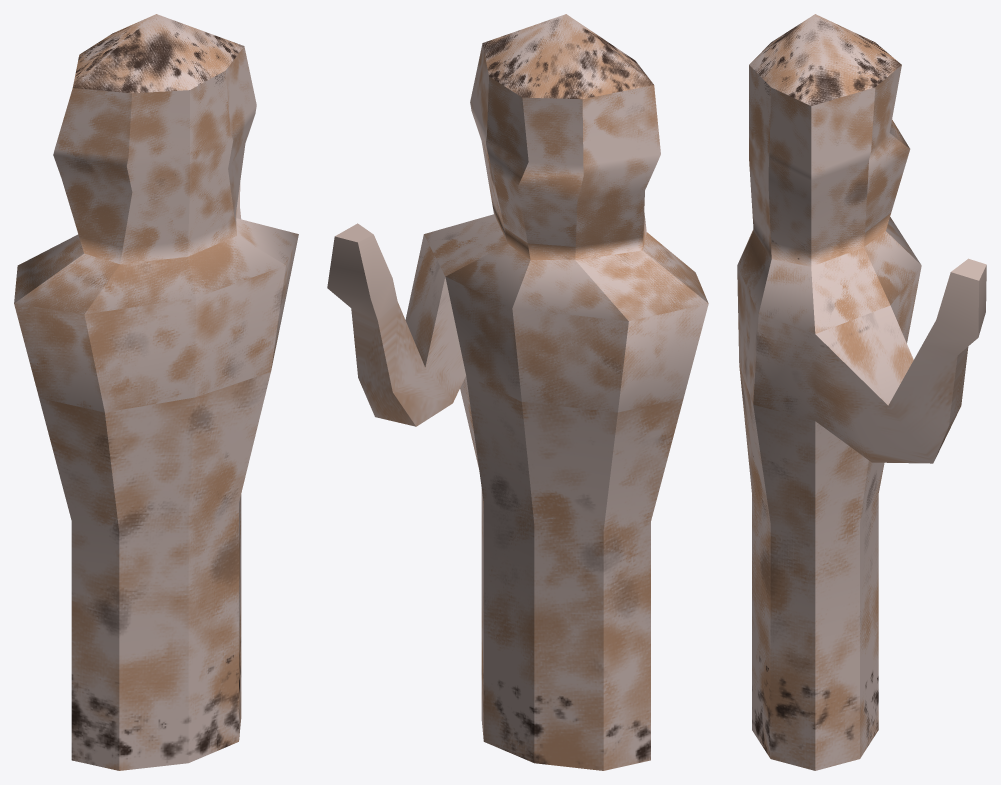
Rendered from figurine_hand.glb.
The picture shows the model from 3 angles, left to right: view 1: azimuth 30°, elevation 25°; view 2: azimuth 150°, elevation 25°; view 3: azimuth 270°, elevation 25°; orthographic projection.
Visible parts, largest first — view 1: pCylinder1.002; view 2: pCylinder1.002; view 3: pCylinder1.002.
Part boxes in pixels (x1,y1,x2,y2): pCylinder1.002: (14, 14, 298, 770); pCylinder1.002: (327, 14, 708, 770); pCylinder1.002: (737, 14, 986, 770).
Bounding box in the file's own units: 0.1047 × 0.243 × 0.0767.
Materials: 1 (1 with a texture image).
